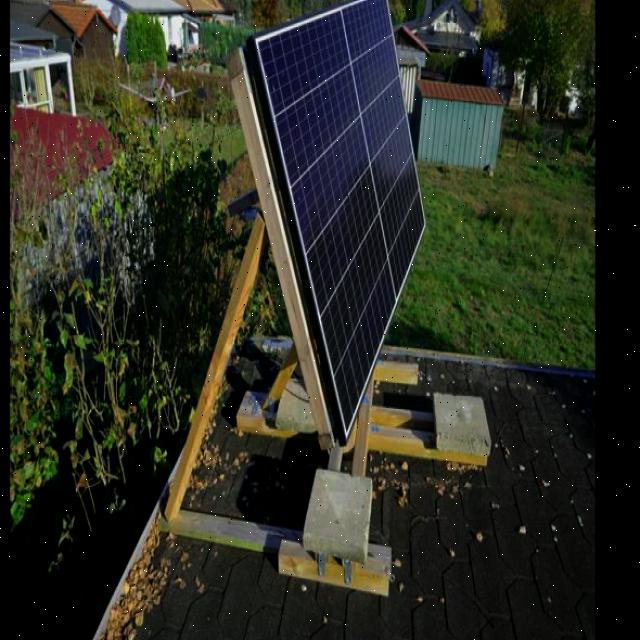Normal Solar Panel: (256, 0, 424, 435)
